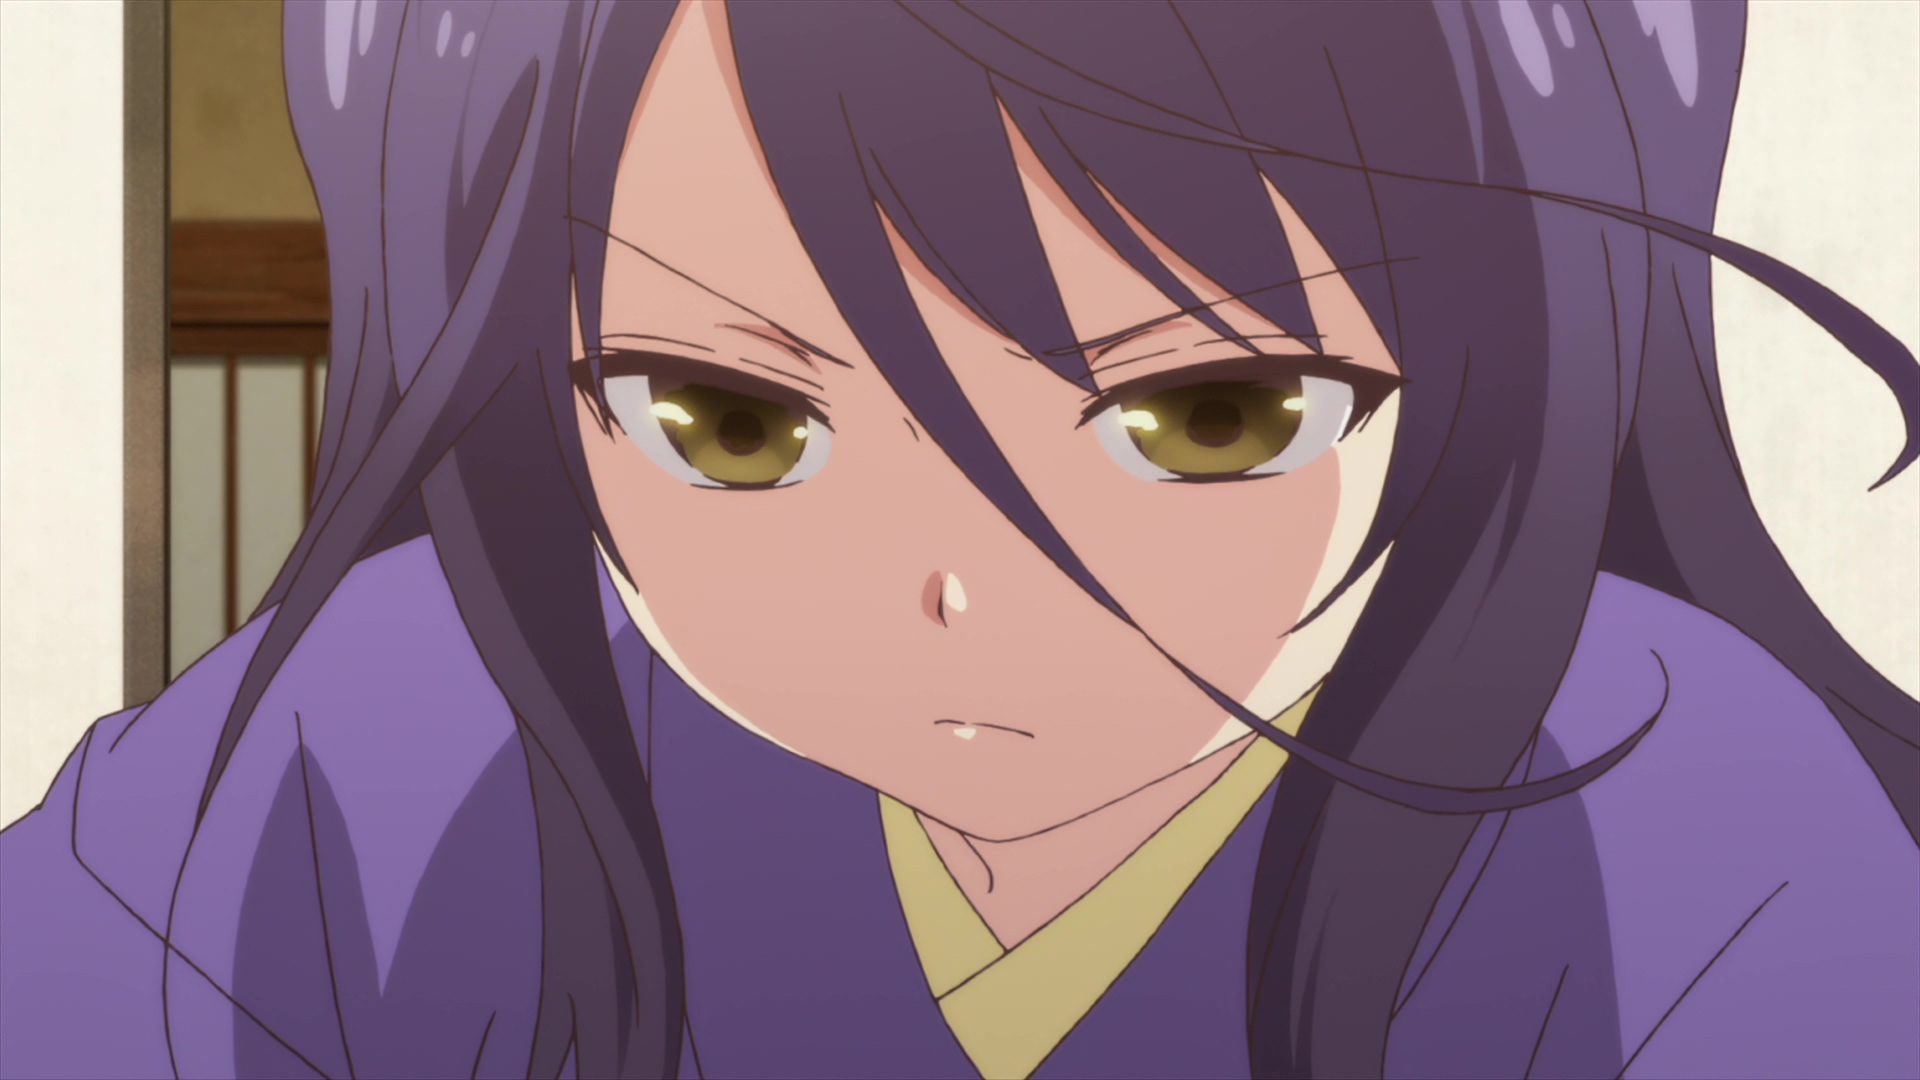皋: (1, 1, 1920, 1080)
